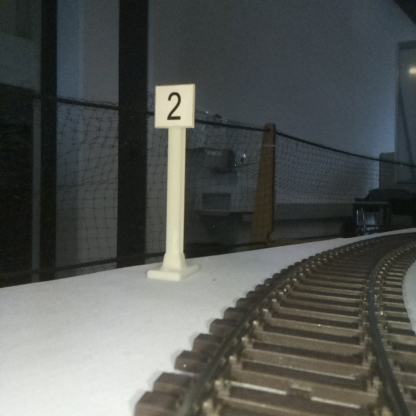white-info-2: (155, 82, 194, 279)
